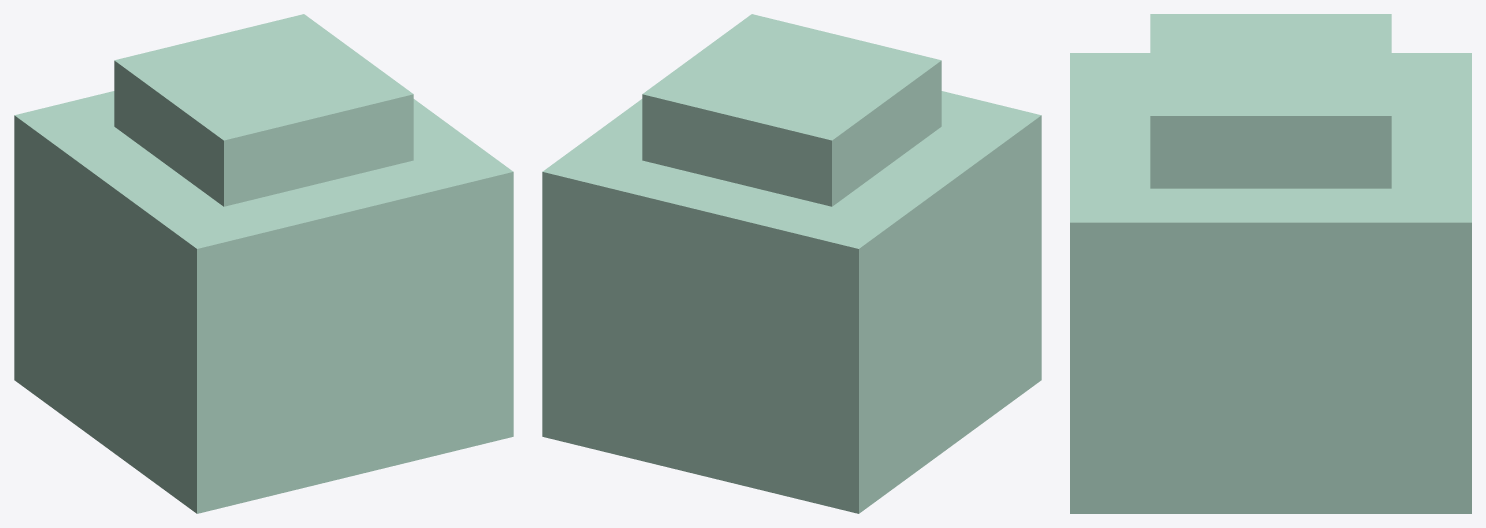
File: Item_DS_Food_HerbTea_V2.glb
The picture shows the model from 3 angles, left to right: view 1: azimuth 30°, elevation 25°; view 2: azimuth 150°, elevation 25°; view 3: azimuth 270°, elevation 25°; orthographic projection. The views are drawn at different scales.
Visible parts, largest first — view 1: Item_DS_Food_HerbTea_V2; view 2: Item_DS_Food_HerbTea_V2; view 3: Item_DS_Food_HerbTea_V2.
Part boxes in pixels (x1,y1,x2,y2): Item_DS_Food_HerbTea_V2: (14,14,513,513); Item_DS_Food_HerbTea_V2: (542,14,1041,513); Item_DS_Food_HerbTea_V2: (1070,14,1471,513).
Bounding box in the file's own units: 0.26 × 0.26 × 0.26.
